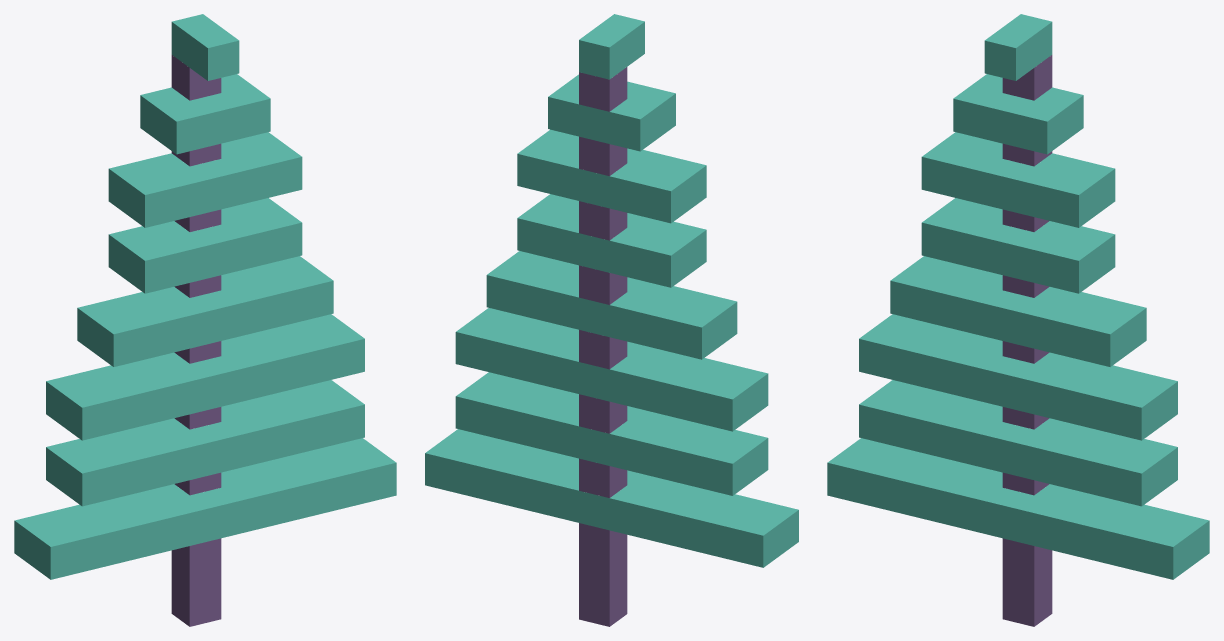
Rendered from alien-biosphere-ladder-fern-c660d0ea__22699.glb.
3 views of the same model, side by side, from view 1: azimuth 30°, elevation 25°; view 2: azimuth 150°, elevation 25°; view 3: azimuth 330°, elevation 25° (orthographic). The views are drawn at different scales.
Visible parts, largest first — view 1: ladder-fern; view 2: ladder-fern; view 3: ladder-fern.
Part boxes in pixels (x1,y1,x2,y2): ladder-fern: [14, 14, 396, 626]; ladder-fern: [425, 14, 798, 626]; ladder-fern: [827, 14, 1209, 626].
Bounding box in the file's own units: 1.1 × 1.8 × 0.2.
